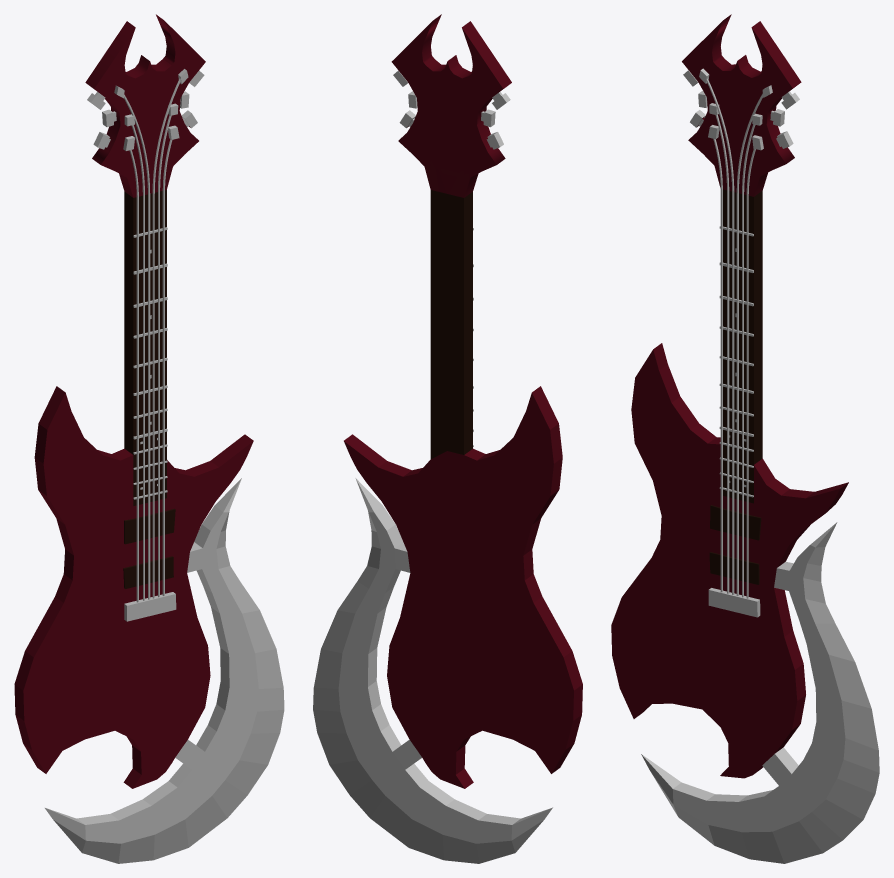
Rendered from Guitar_Model.fbx.
3 renders of one model, left to right at view 1: azimuth 30°, elevation 25°; view 2: azimuth 150°, elevation 25°; view 3: azimuth 330°, elevation 25°, orthographic.
Visible parts, largest first — view 1: Guitar1; view 2: Guitar1; view 3: Guitar1.
Part boxes in pixels (x1,y1,x2,y2): Guitar1: (14, 14, 284, 863); Guitar1: (313, 14, 582, 863); Guitar1: (611, 14, 879, 863).
Size of the model in its own units: 60.12 by 182 by 4.62.
